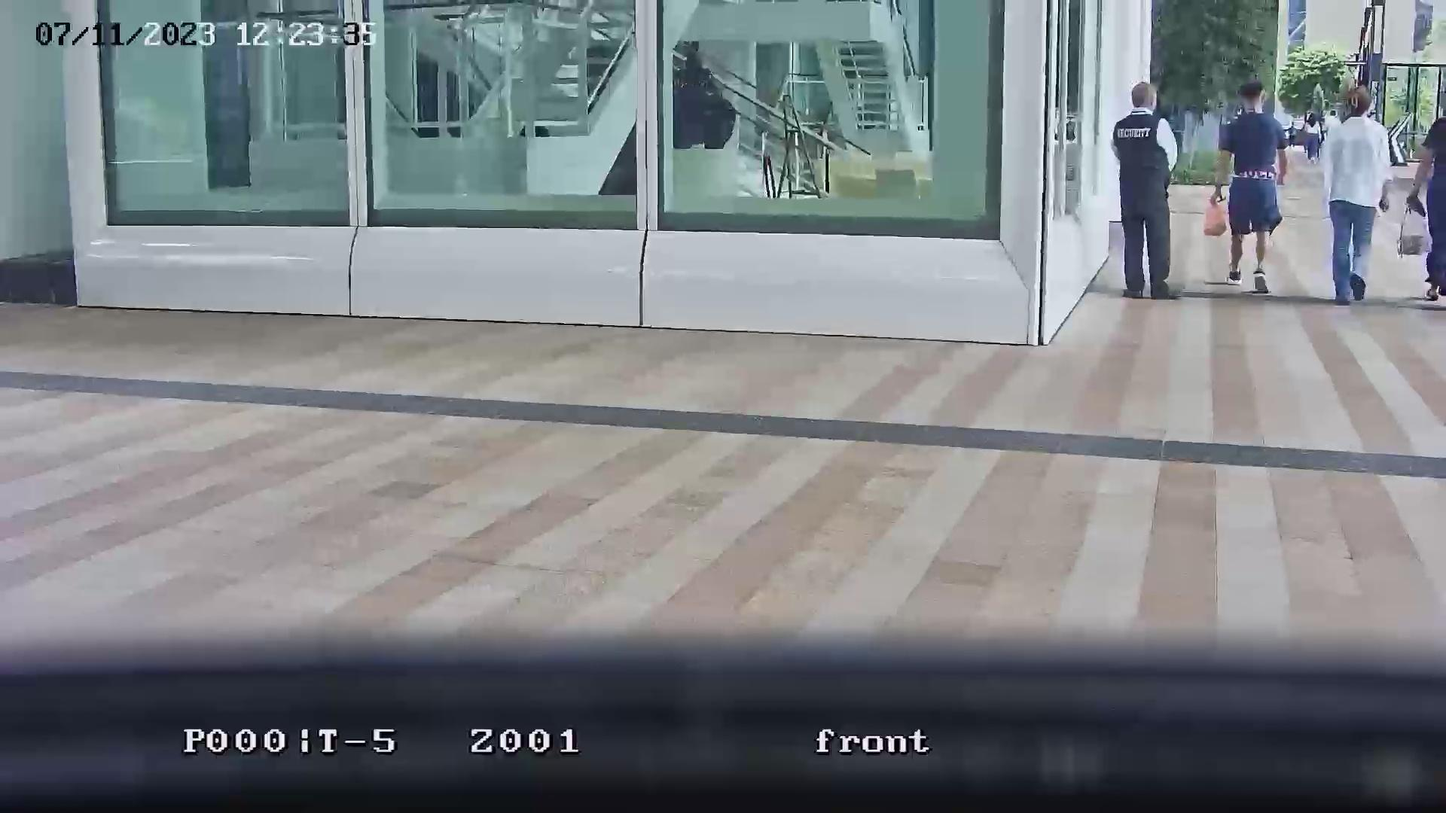person: (1321, 84, 1393, 303), (1112, 79, 1182, 300), (1216, 78, 1287, 292), (1405, 112, 1445, 302), (1303, 111, 1322, 161)
